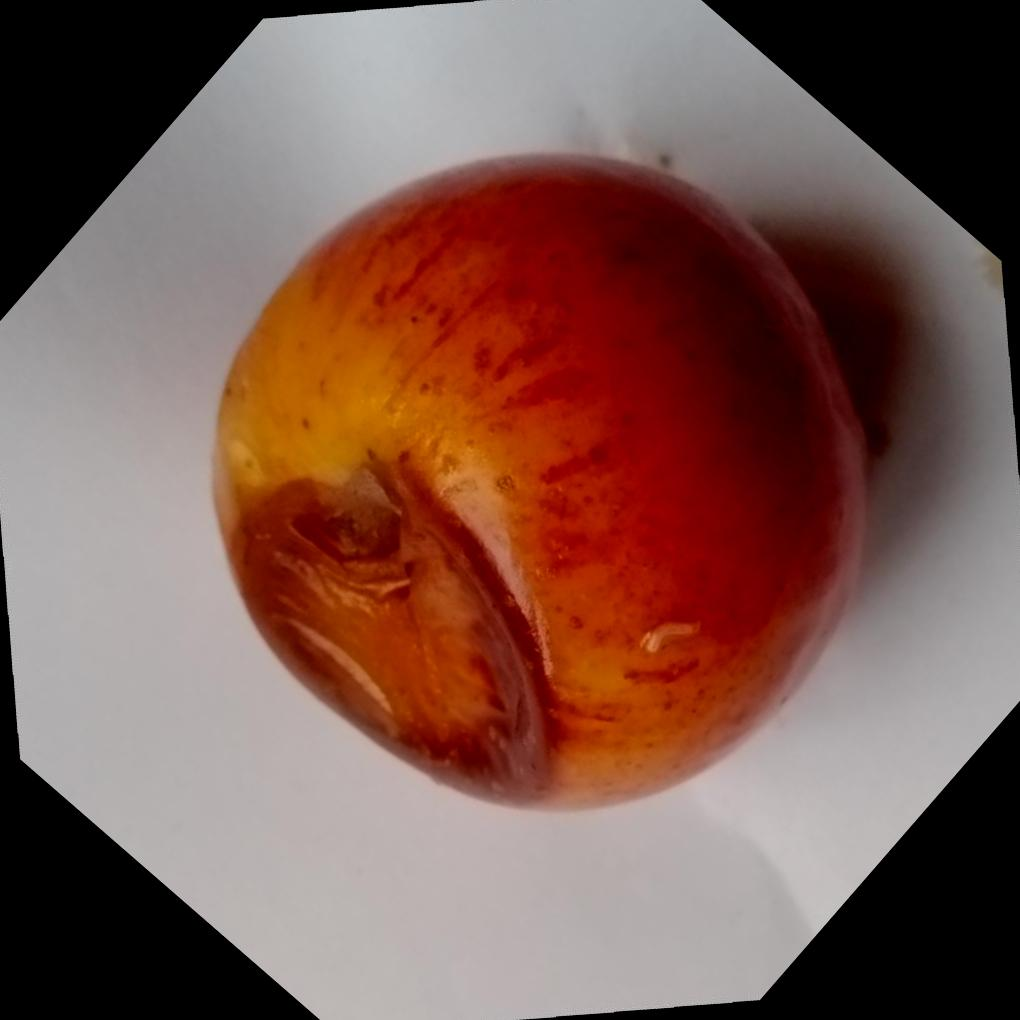FreshOrange: (208, 147, 869, 813)
